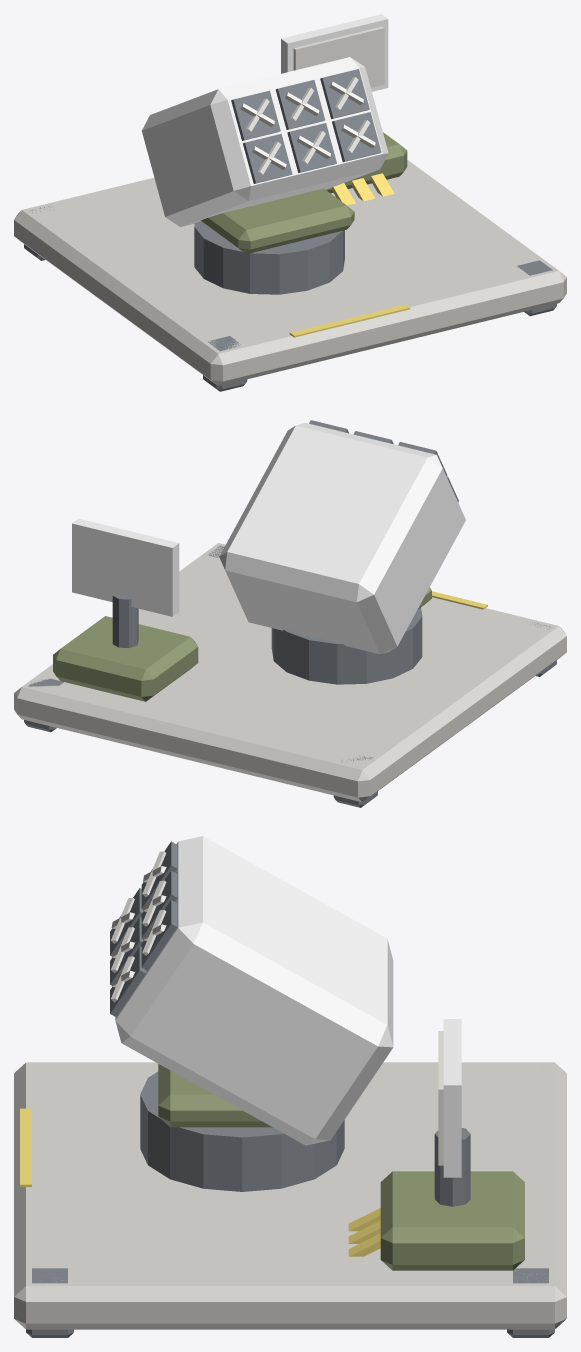
File: aadef.glb
3 views of the same model, one above another, from view 1: azimuth 30°, elevation 25°; view 2: azimuth 150°, elevation 25°; view 3: azimuth 270°, elevation 25° (orthographic). The views are drawn at different scales.
Visible parts, largest first — view 1: main, turret, rotor; view 2: main, turret, rotor; view 3: main, turret, rotor.
Part boxes in pixels (<box>): main: <box>14,132,566,391</box>; turret: <box>142,57,388,254</box>; rotor: <box>281,14,388,91</box>; main: <box>14,543,566,807</box>; turret: <box>219,420,465,654</box>; rotor: <box>72,518,179,616</box>; main: <box>14,1062,566,1337</box>; turret: <box>110,836,393,1145</box>; rotor: <box>438,1019,461,1177</box>.
Size of the model in its own units: 0.92 by 0.5949 by 0.92.
